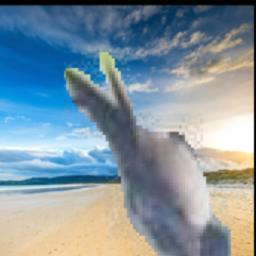Swallow: (64, 49, 231, 256)
